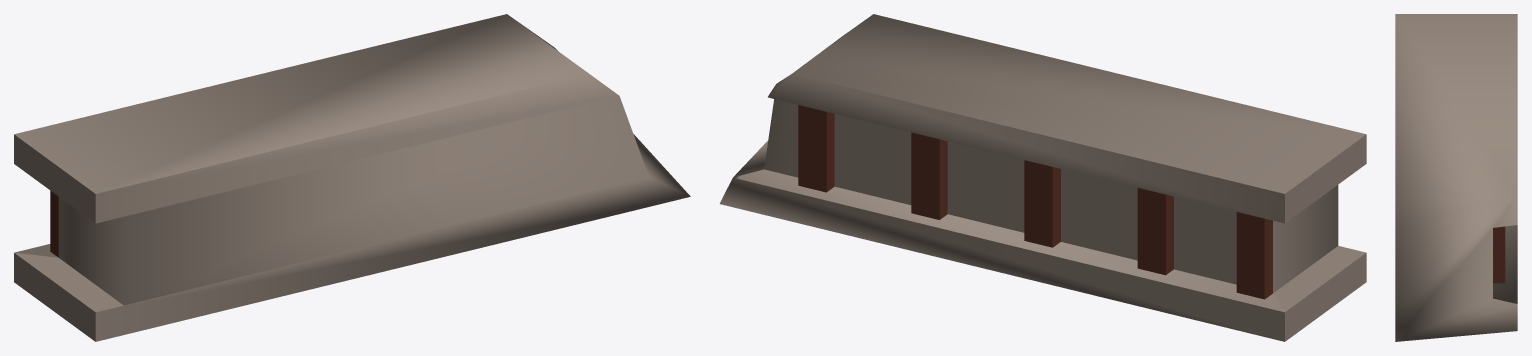
Rendered from Row_03_Broken_01.fbx.
3 renders of one model, left to right at view 1: azimuth 30°, elevation 25°; view 2: azimuth 150°, elevation 25°; view 3: azimuth 270°, elevation 25°, orthographic. The views are drawn at different scales.
Visible parts, largest first — view 1: Cube.016; view 2: Cube.016; view 3: Cube.016.
Boxes of the visible parts, x1=… form: Cube.016: x1=14, y1=14, x2=690, y2=341; Cube.016: x1=719, y1=14, x2=1366, y2=341; Cube.016: x1=1395, y1=14, x2=1517, y2=341.
Size of the model in its own units: 842 by 200 by 200.
